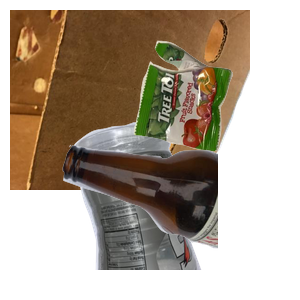cardboard: (10, 10, 250, 190)
glass: (60, 142, 300, 300)
plastic: (71, 120, 265, 300)
trash: (131, 38, 300, 182)
